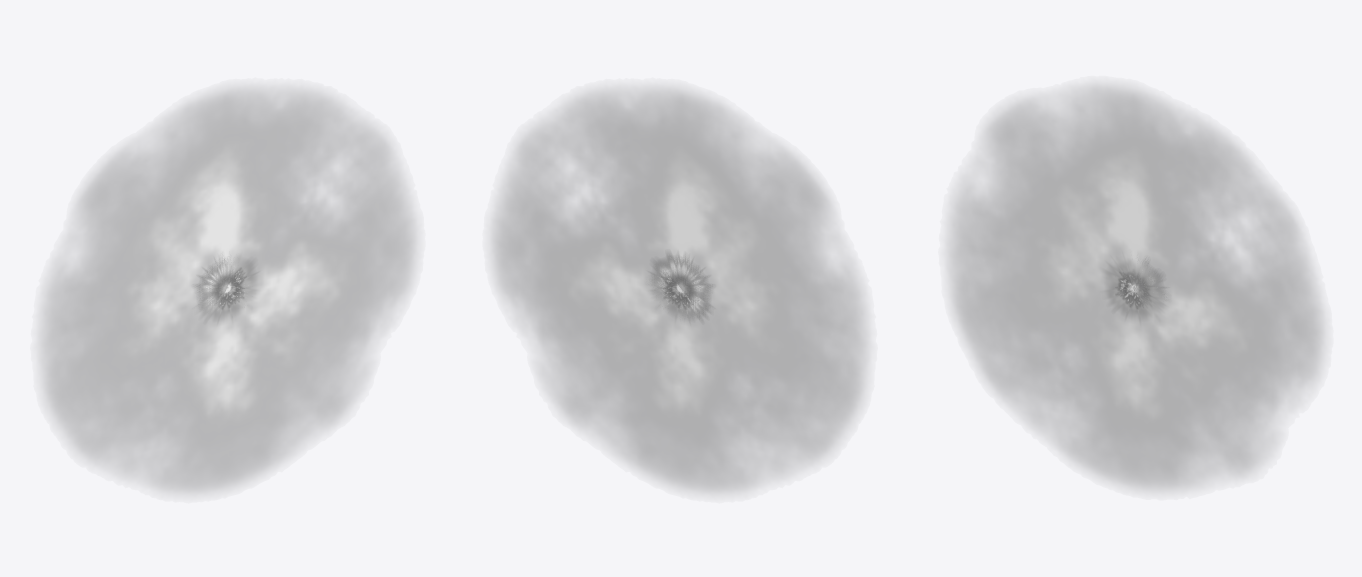
Rendered from si_eah_0130.glb.
3 views of the same model, side by side, from view 1: azimuth 30°, elevation 25°; view 2: azimuth 150°, elevation 25°; view 3: azimuth 330°, elevation 25° (orthographic).
Parts seen in each view (by area): view 1: layer_01_si_est_0101, layer_03_si_est_0403; view 2: layer_01_si_est_0101, layer_03_si_est_0403; view 3: layer_01_si_est_0101, layer_03_si_est_0403, layer_02_si_est_0201.
Boxes of the visible parts, x1,y1,x2,y2 form: layer_01_si_est_0101: (41,89,414,491); layer_03_si_est_0403: (196,259,253,317); layer_01_si_est_0101: (493,89,866,491); layer_03_si_est_0403: (652,254,710,319); layer_01_si_est_0101: (949,86,1322,489); layer_03_si_est_0403: (1109,262,1164,316); layer_02_si_est_0201: (1116,272,1149,308).
Size of the model in its own units: 300 by 300 by 2.26e-05.
Materials: 4 (4 with a texture image).
